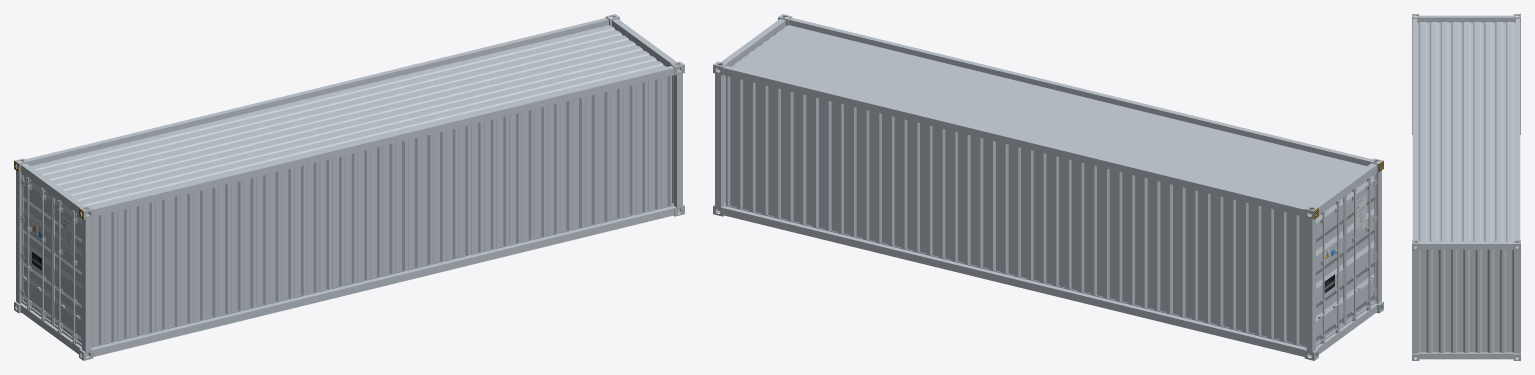
Rendered from C01-container.glb.
3 renders of one model, left to right at view 1: azimuth 30°, elevation 25°; view 2: azimuth 150°, elevation 25°; view 3: azimuth 270°, elevation 25°, orthographic. The views are drawn at different scales.
Parts seen in each view (by area): view 1: long_wall_1, corrugated_roof, long_rail_1_2.806, long_rail_1_0.09, long_rail_-1_2.806, closed_door_-1, closed_door_1, corner_post_1_-5.996, corner_post_1_5.996, sealed_floor, end_rail_-5.996_2.806, corner_post_-1_-5.996 (+2 smaller); view 2: long_wall_-1, corrugated_roof, long_rail_-1_2.806, long_rail_-1_0.09, long_rail_1_2.806, closed_door_-1, closed_door_1, corner_post_-1_-5.996, corner_post_-1_5.996, sealed_floor, end_rail_-5.996_2.806, corner_post_1_-5.996 (+2 smaller); view 3: corrugated_roof, closed_far_end, long_rail_-1_2.806, long_rail_1_2.806, end_rail_5.996_2.806, end_rail_5.996_0.09, end_rail_-5.996_2.806, corner_post_-1_5.996, corner_post_1_5.996, corner_post_-1_-5.996, corner_post_1_-5.996.
Boxes of the visible parts, left/top/right/bottom form: long_wall_1: left=91, top=76, right=671, bottom=347; corrugated_roof: left=31, top=25, right=666, bottom=207; long_rail_1_2.806: left=91, top=66, right=674, bottom=216; long_rail_1_0.09: left=91, top=206, right=674, bottom=356; long_rail_-1_2.806: left=26, top=18, right=608, bottom=165; closed_door_-1: left=23, top=176, right=51, bottom=320; closed_door_1: left=54, top=198, right=81, bottom=343; corner_post_1_-5.996: left=82, top=218, right=91, bottom=352; corner_post_1_5.996: left=673, top=73, right=682, bottom=207; sealed_floor: left=92, top=205, right=672, bottom=347; end_rail_-5.996_2.806: left=20, top=163, right=85, bottom=213; corner_post_-1_-5.996: left=16, top=170, right=21, bottom=303; long_wall_-1: left=726, top=76, right=1306, bottom=347; corrugated_roof: left=731, top=25, right=1366, bottom=207; long_rail_-1_2.806: left=723, top=66, right=1306, bottom=216; long_rail_-1_0.09: left=723, top=206, right=1306, bottom=356; long_rail_1_2.806: left=789, top=18, right=1371, bottom=165; closed_door_-1: left=1316, top=198, right=1343, bottom=343; closed_door_1: left=1346, top=176, right=1374, bottom=320; corner_post_-1_-5.996: left=1306, top=218, right=1315, bottom=352; corner_post_-1_5.996: left=715, top=73, right=724, bottom=207; sealed_floor: left=725, top=205, right=1305, bottom=347; end_rail_-5.996_2.806: left=1312, top=163, right=1377, bottom=213; corner_post_1_-5.996: left=1376, top=170, right=1381, bottom=303; corrugated_roof: left=1417, top=22, right=1515, bottom=241; closed_far_end: left=1417, top=249, right=1515, bottom=352; long_rail_-1_2.806: left=1515, top=18, right=1520, bottom=239; long_rail_1_2.806: left=1412, top=18, right=1417, bottom=239; end_rail_5.996_2.806: left=1419, top=241, right=1513, bottom=249; end_rail_5.996_0.09: left=1419, top=352, right=1513, bottom=359; end_rail_-5.996_2.806: left=1419, top=15, right=1513, bottom=22; corner_post_-1_5.996: left=1515, top=250, right=1520, bottom=353; corner_post_1_5.996: left=1412, top=250, right=1417, bottom=353; corner_post_-1_-5.996: left=1520, top=24, right=1520, bottom=127; corner_post_1_-5.996: left=1412, top=24, right=1412, bottom=127.
Bounding box in the file's own units: 12.19 × 2.9 × 2.44.
Materials: 9 (5 with a texture image).
